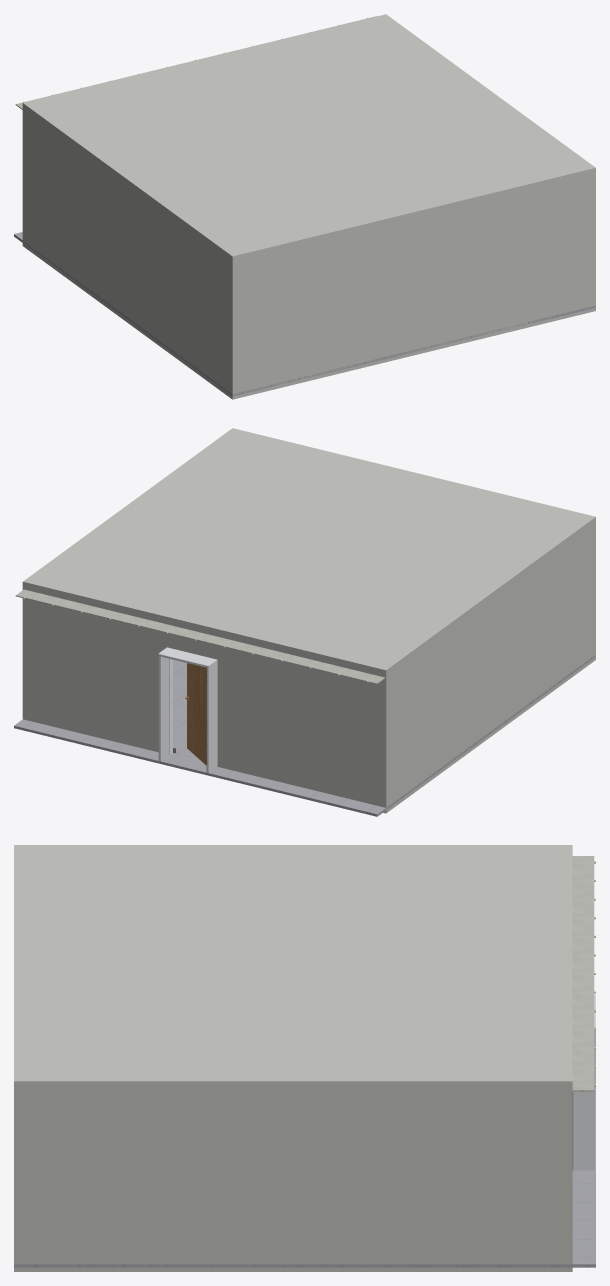
The model's file is infinigen-surgical-ward.glb.
The picture shows the model from 3 angles, top to bottom: view 1: azimuth 30°, elevation 25°; view 2: azimuth 150°, elevation 25°; view 3: azimuth 270°, elevation 25°; orthographic projection. The views are drawn at different scales.
Visible parts, largest first — view 1: bedroom_0/0.exterior, openclinxr_floor_field; view 2: bedroom_0/0.exterior, openclinxr_floor_field, openclinxr_ceiling_tiles, bedroom_0/0.door_casing, bedroom_0/0.door_leaf; view 3: bedroom_0/0.exterior, openclinxr_ceiling_tiles, openclinxr_floor_field, bedroom_0/0.door_casing.
Boxes of the visible parts, x1,y1,x2,y2 form: bedroom_0/0.exterior: [22, 14, 595, 399]; openclinxr_floor_field: [14, 232, 595, 396]; bedroom_0/0.exterior: [22, 428, 595, 813]; openclinxr_floor_field: [14, 654, 595, 816]; openclinxr_ceiling_tiles: [15, 589, 384, 684]; bedroom_0/0.door_casing: [158, 647, 217, 772]; bedroom_0/0.door_leaf: [185, 663, 206, 765]; bedroom_0/0.exterior: [14, 845, 572, 1271]; openclinxr_ceiling_tiles: [572, 856, 594, 1091]; openclinxr_floor_field: [14, 1170, 595, 1267]; bedroom_0/0.door_casing: [572, 994, 595, 1170].
Bounding box in the file's own units: 7.62 × 2.87 × 7.94.
18 materials, 10 textured.
